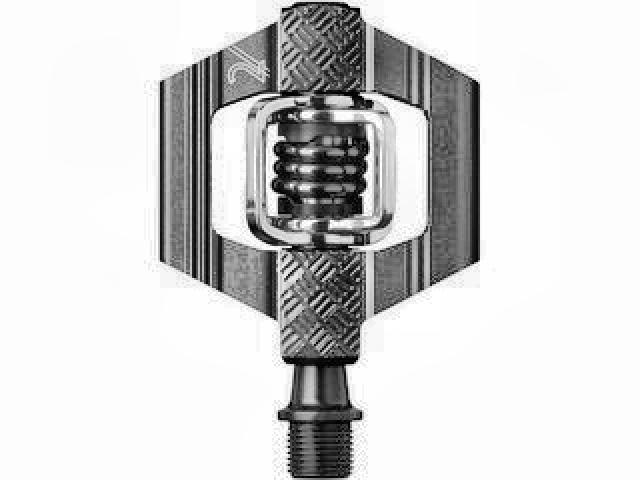pedal: (152, 3, 482, 477)
